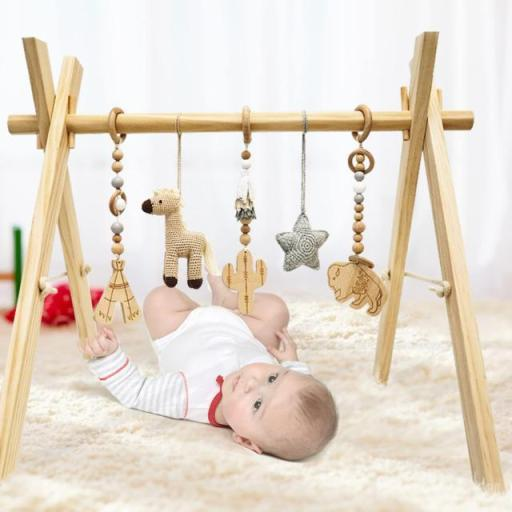baby: (79, 275, 338, 459)
